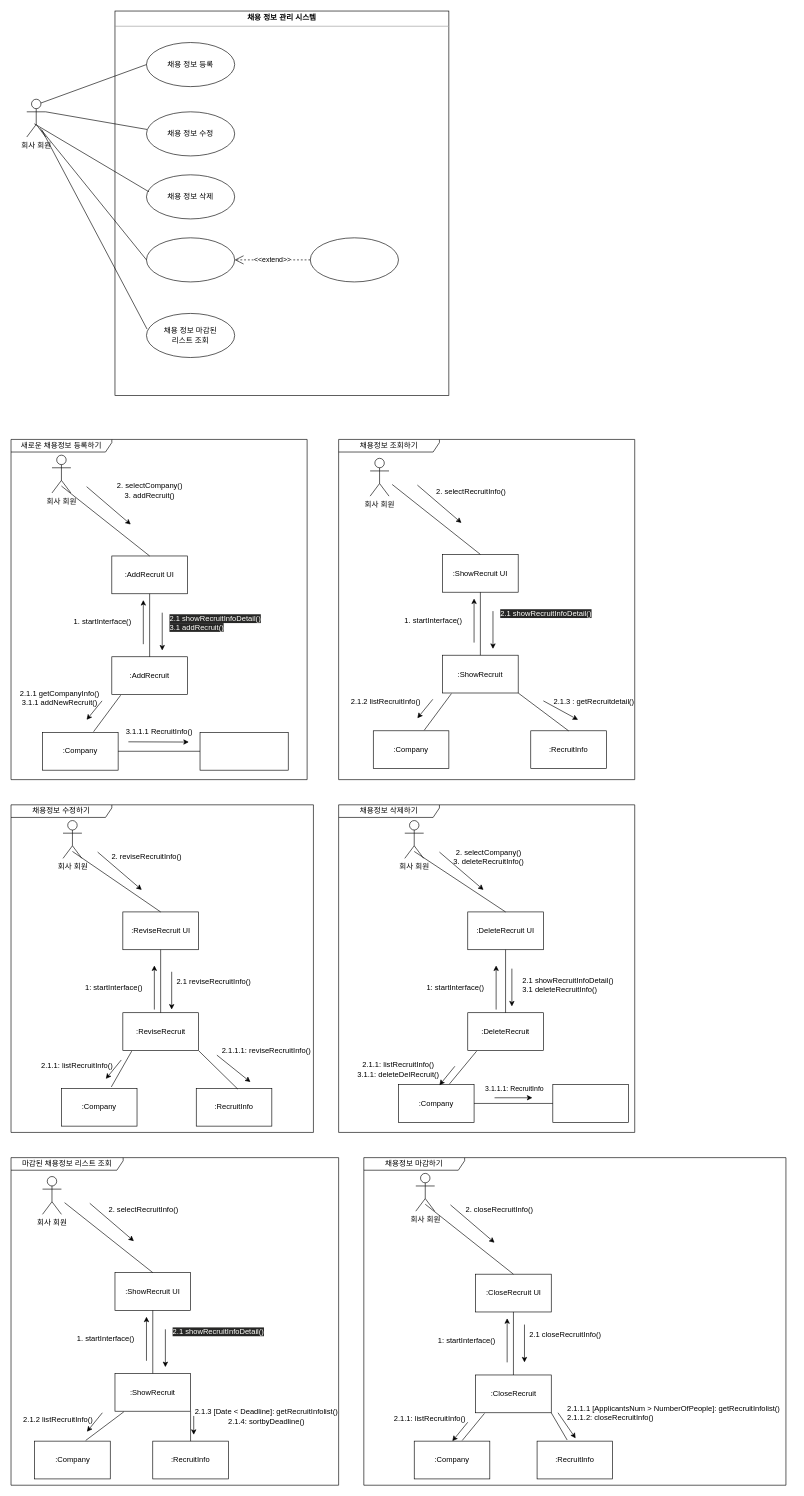
Some shapes in this 804 by 1496 pixel diagram are drawn without their labels. Each missing label, with the centre of its shape:
DelRecruit:RecruitInfo: [590,1103]
NewRecruit:RecruitInfo: [243,751]
등록한 채용 정보 리스트 조회: [190,259]
채용 조기 마감: [354,259]
